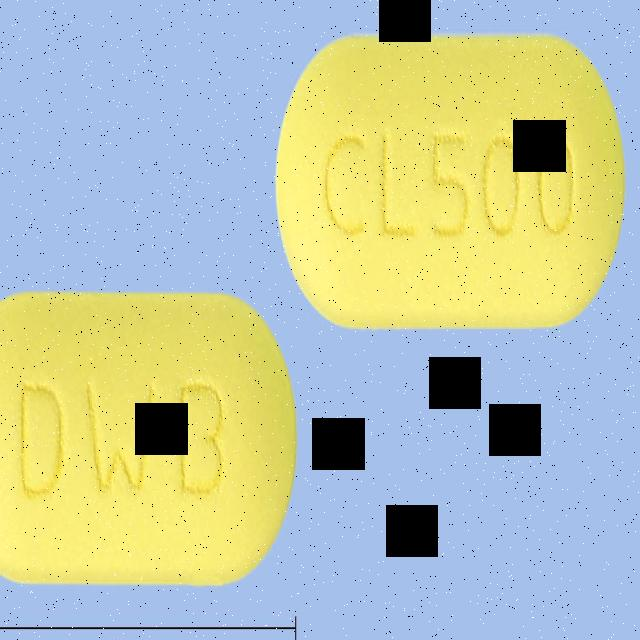Daewoong Bio Clarithromycin: (276, 34, 628, 329), (0, 284, 298, 589)
